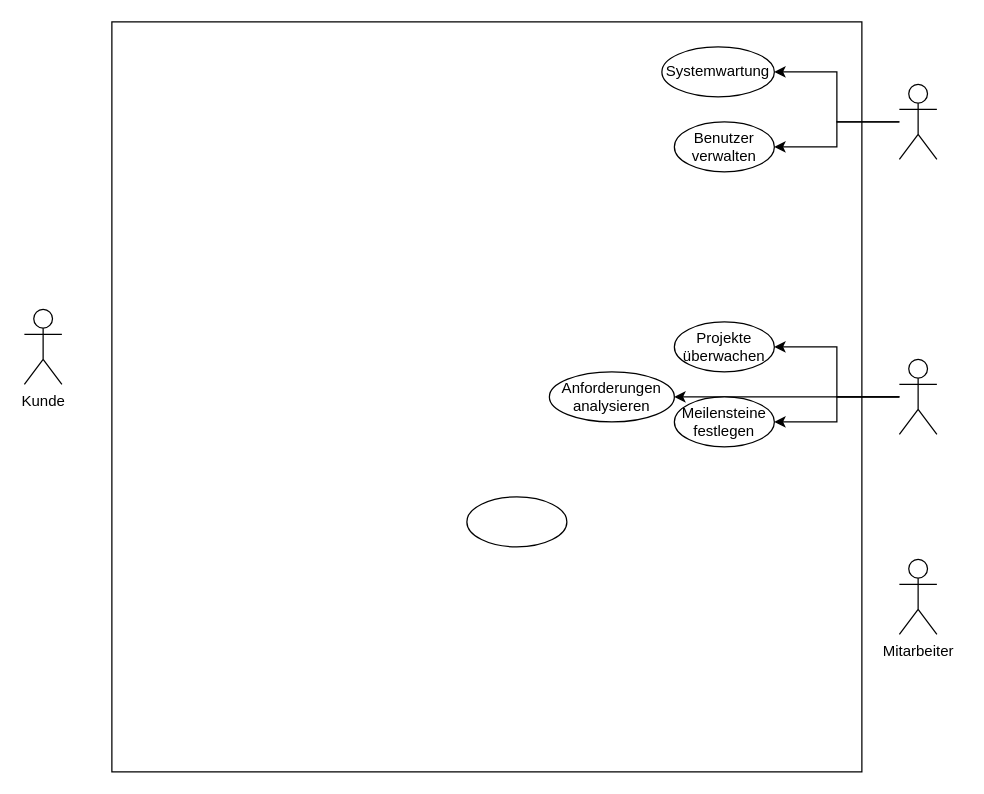
This 984x794 diagram has some shape labels left out. Each missing label, with the centre of its shape:
"Administrator" belongs at point 917,121.
"Aufgaben verwalten" belongs at point 516,521.
"Projektleiter" belongs at point 917,396.
